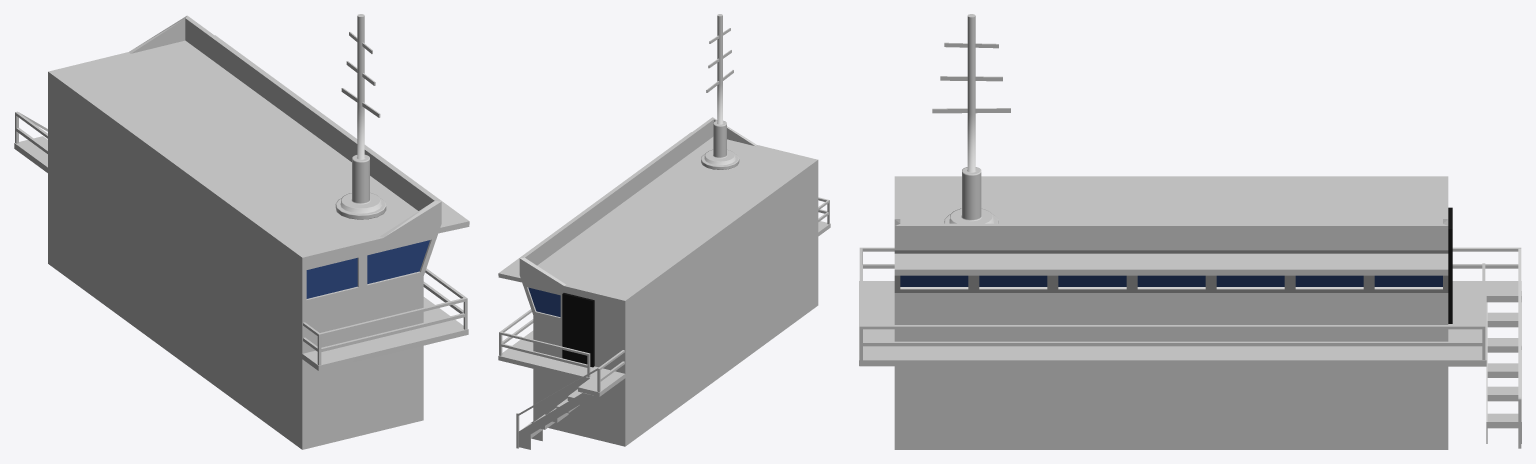
The model's file is Mostik 2.fbx.
3 views of the same model, side by side, from view 1: azimuth 30°, elevation 25°; view 2: azimuth 150°, elevation 25°; view 3: azimuth 270°, elevation 25° (orthographic). The views are drawn at different scales.
Visible parts, largest first — view 1: Mostik 2; view 2: Mostik 2; view 3: Mostik 2.
Boxes of the visible parts, x1=… form: Mostik 2: x1=14, y1=14, x2=469, y2=449; Mostik 2: x1=498, y1=14, x2=830, y2=449; Mostik 2: x1=859, y1=14, x2=1521, y2=449.
Size of the model in its own units: 163 by 363 by 513.
